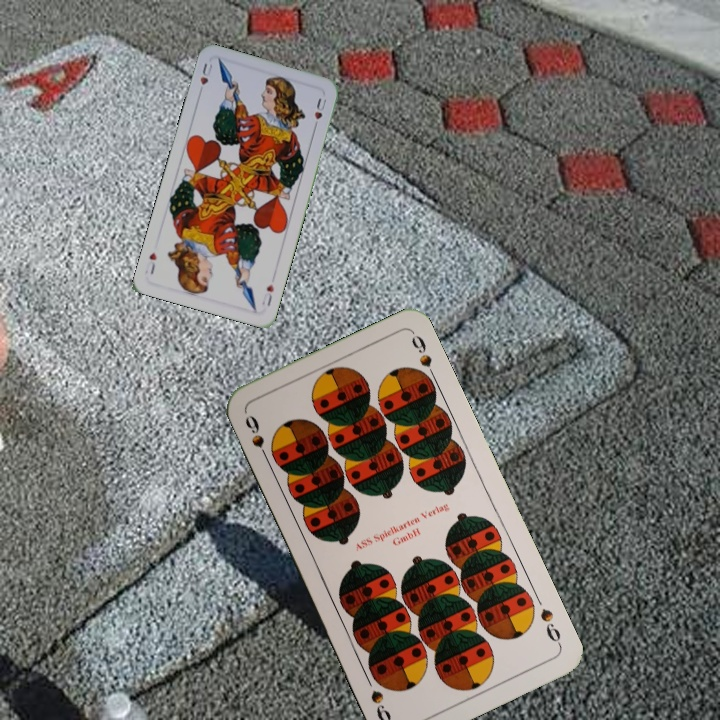HU: (195, 59, 216, 98), (258, 280, 276, 309)
S9: (240, 411, 273, 466), (536, 604, 564, 649)
